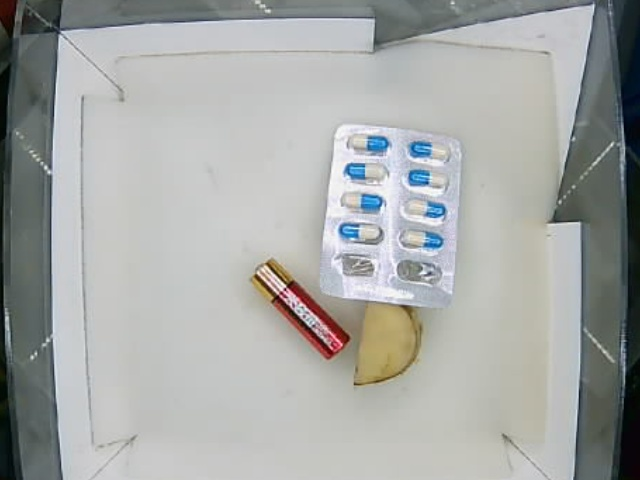Battery: (250, 260, 349, 361)
Medicine: (326, 123, 458, 312)
Potato: (358, 300, 422, 388)
